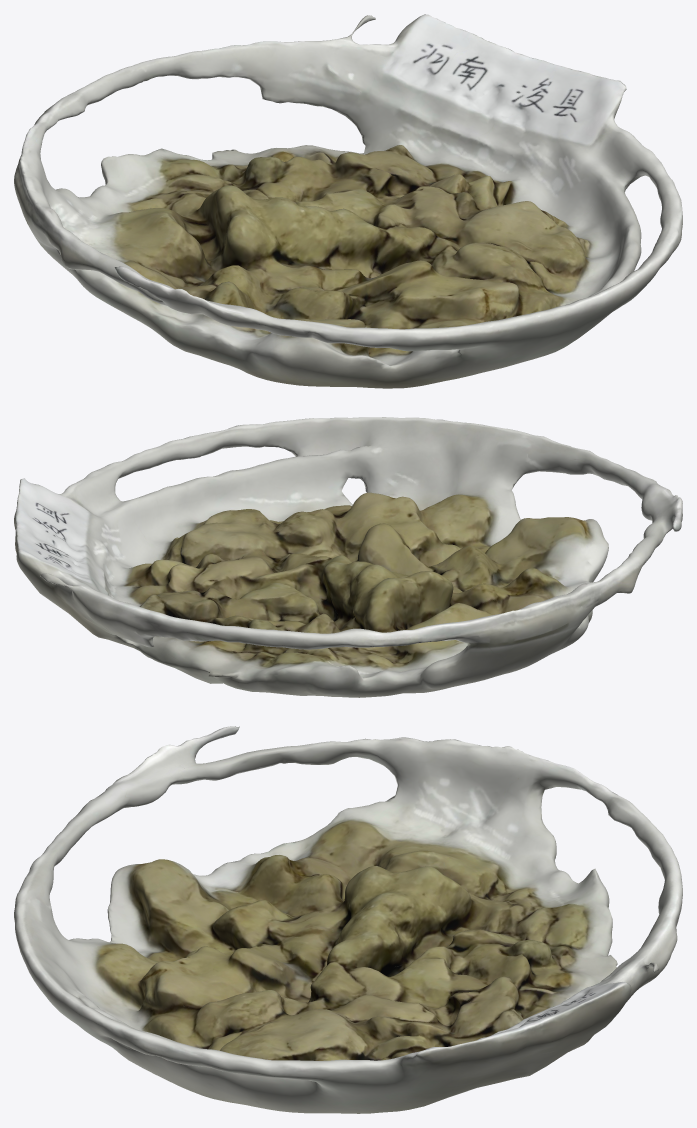
3 renders of one model, top to bottom at view 1: azimuth 30°, elevation 25°; view 2: azimuth 150°, elevation 25°; view 3: azimuth 270°, elevation 25°, orthographic. The views are drawn at different scales.
Size of the model in its own units: 0.6806 by 0.1957 by 0.6431.
1 material, 1 textured.
